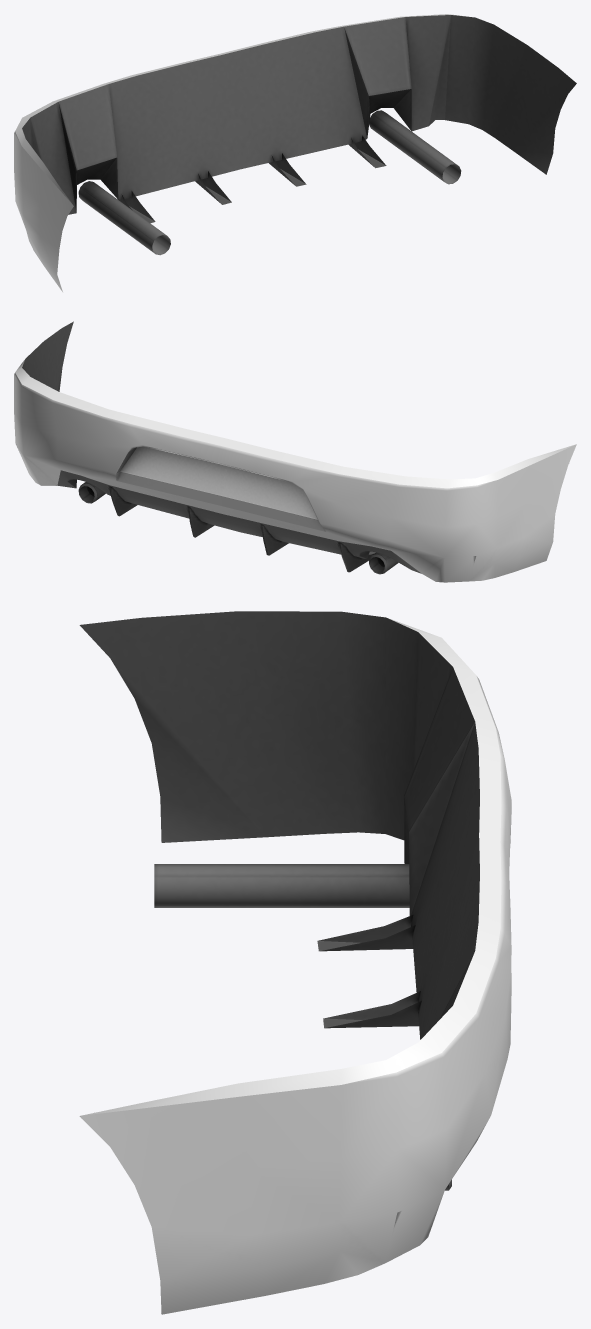
File: Sport_2_Bumper_B_1.fbx
The picture shows the model from 3 angles, top to bottom: view 1: azimuth 30°, elevation 25°; view 2: azimuth 150°, elevation 25°; view 3: azimuth 270°, elevation 25°; orthographic projection. The views are drawn at different scales.
Visible parts, largest first — view 1: Sport_2_Bumper_B_1; view 2: Sport_2_Bumper_B_1; view 3: Sport_2_Bumper_B_1.
Part boxes in pixels (left/top/right/bottom): Sport_2_Bumper_B_1: left=14, top=14, right=576, bottom=291; Sport_2_Bumper_B_1: left=14, top=321, right=576, bottom=582; Sport_2_Bumper_B_1: left=79, top=611, right=511, bottom=1314.
Bounding box in the file's own units: 179 × 41.42 × 66.62.
